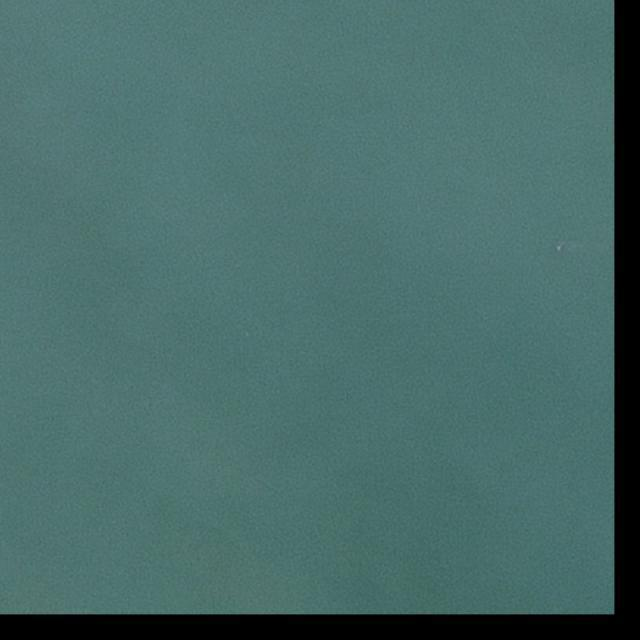ship: (556, 246, 562, 252)
